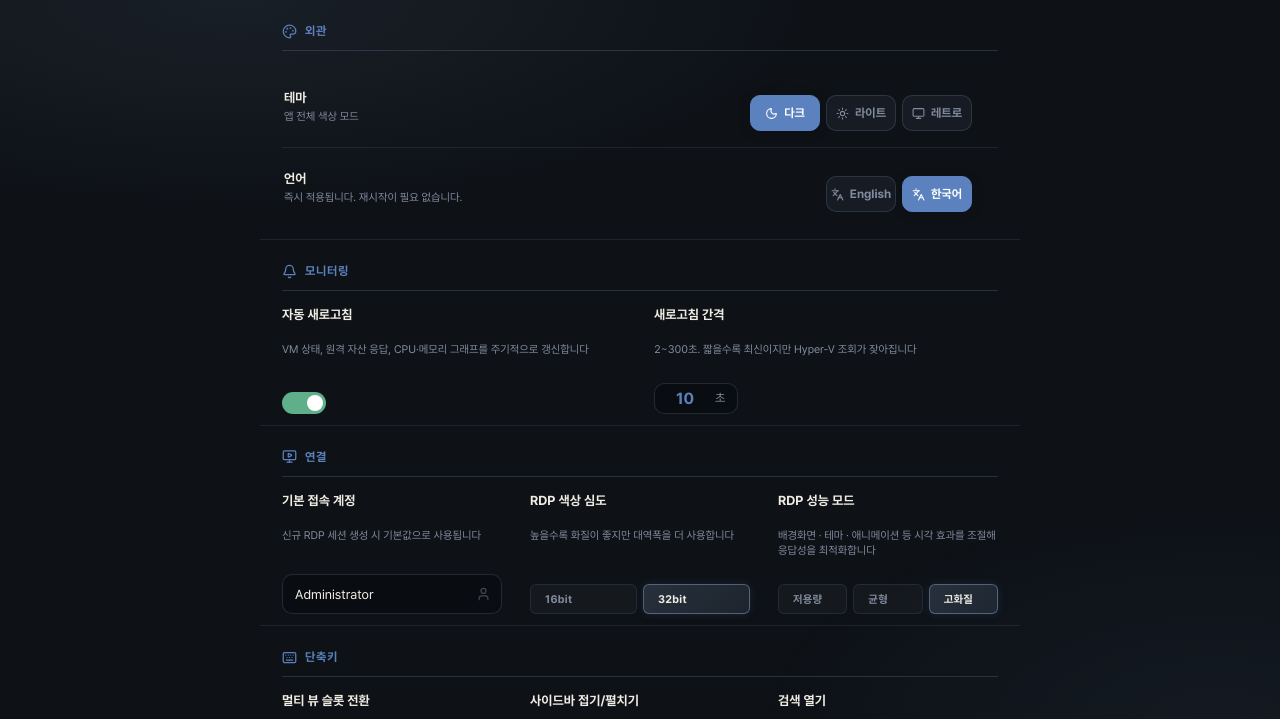
Scenario: SettingsPage 새로고침 간격 › 자동 새로고침을 끄면 간격 칸이 비활성이 된다
Expected: the number field named "새로고침 간격" is enabled, [661,389,709,408]
Click the switch named "자동 새로고침": click(304, 403) [282,392,326,414]
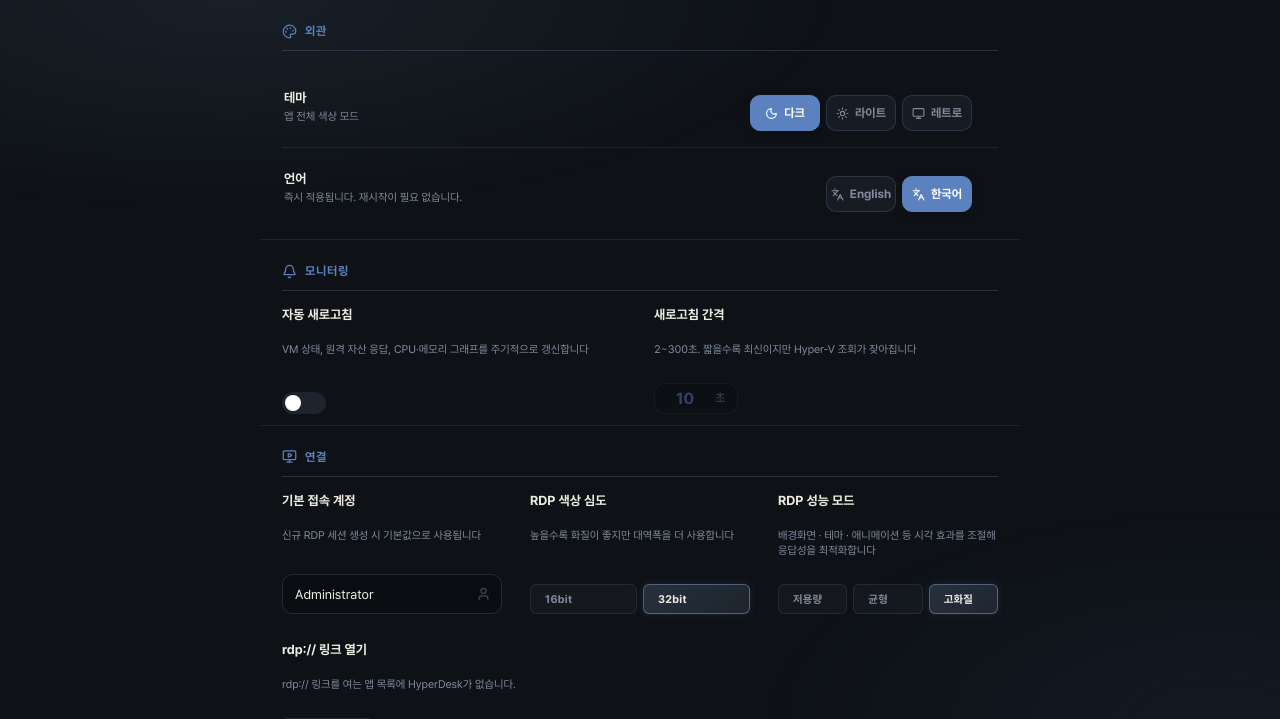
Now the number field named "새로고침 간격" is disabled, box [661,389,709,408]
